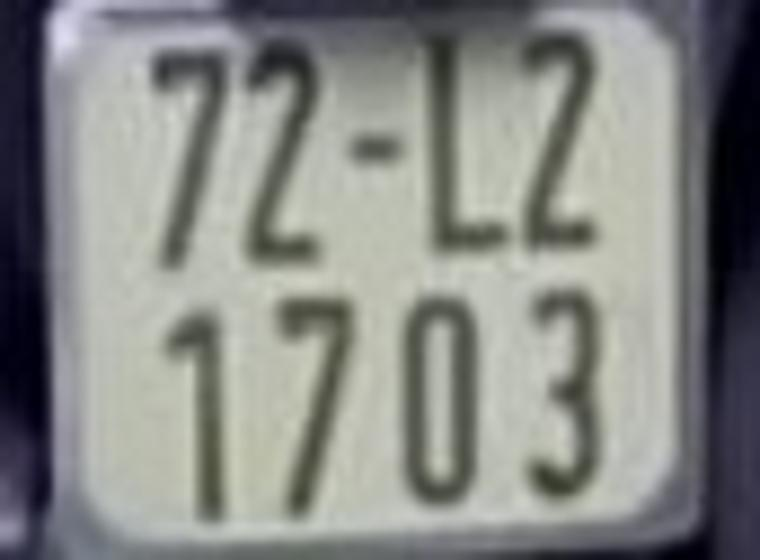-: (350, 136, 399, 166)
0: (403, 295, 478, 507)
1: (169, 311, 230, 518)
2: (249, 39, 319, 263), (527, 30, 593, 250)
3: (531, 296, 600, 498)
7: (279, 298, 354, 520), (151, 46, 223, 268)
L: (426, 31, 505, 251)
